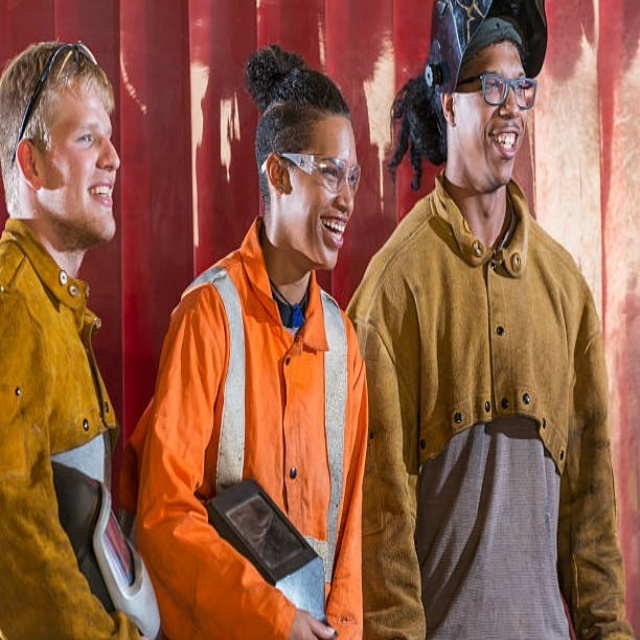Gafas: (267, 147, 360, 199), (459, 67, 539, 111)
Sin_gafas: (55, 116, 114, 160)
Sin_mascara: (482, 122, 524, 179), (79, 171, 118, 232), (315, 212, 350, 265)
